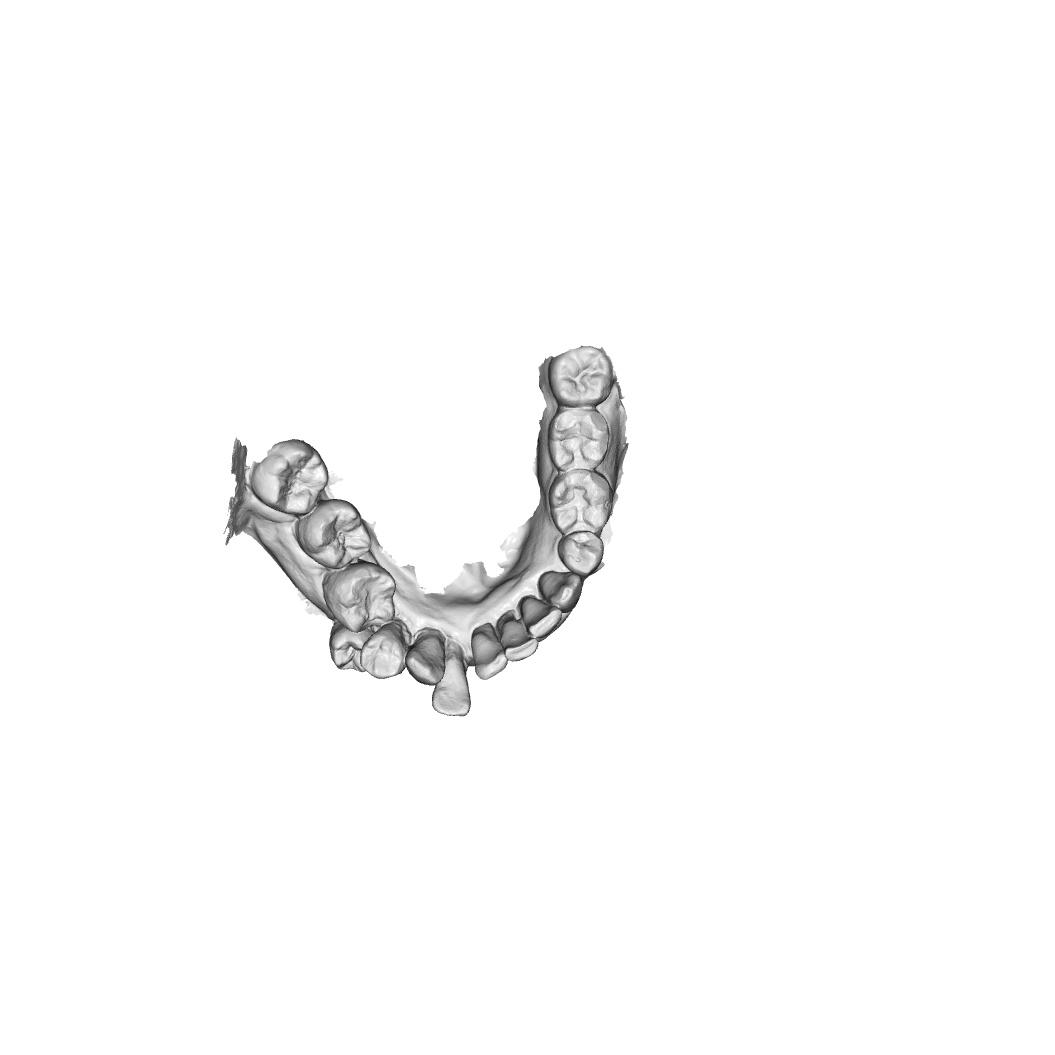canine: (405, 633, 446, 686), (538, 570, 585, 614)
incisor: (431, 643, 473, 718), (469, 622, 509, 681), (497, 608, 539, 662), (519, 595, 563, 640)
molar: (249, 438, 330, 517), (320, 559, 398, 634), (297, 498, 372, 570), (547, 468, 615, 537), (546, 407, 612, 474), (546, 344, 615, 408)
premolar: (360, 619, 413, 681), (327, 620, 375, 675), (556, 530, 605, 578)
